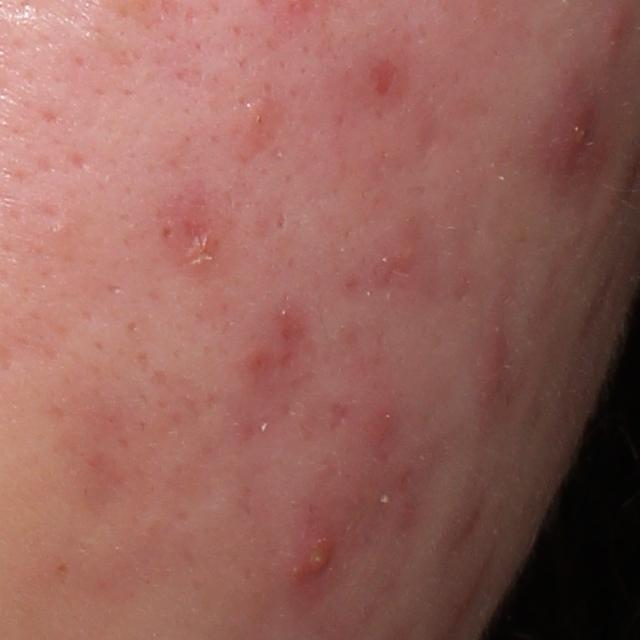atrophic_scar: (368, 57, 399, 98), (273, 208, 290, 231)
comedo: (243, 95, 276, 124), (49, 222, 74, 242)
papule: (553, 100, 598, 172), (481, 336, 513, 400)
pustule: (290, 536, 342, 582)
